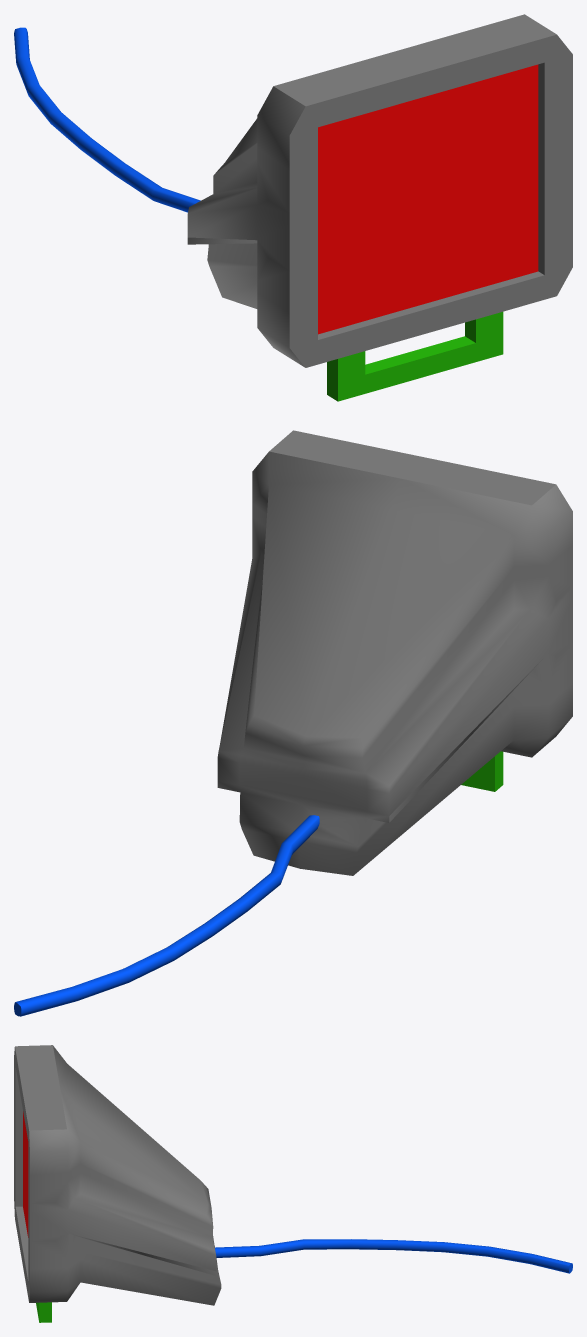
Rendered from FBX_Projecteur.fbx.
3 renders of one model, top to bottom at view 1: azimuth 30°, elevation 25°; view 2: azimuth 150°, elevation 25°; view 3: azimuth 270°, elevation 25°, orthographic. The views are drawn at different scales.
Parts seen in each view (by area): view 1: lumiere008; view 2: lumiere008; view 3: lumiere008.
Part boxes in pixels (<box>): lumiere008: <box>14,14,572,401</box>; lumiere008: <box>14,430,572,1016</box>; lumiere008: <box>14,1045,572,1322</box>.
Bounding box in the file's own units: 80.04 × 80.41 × 197.
